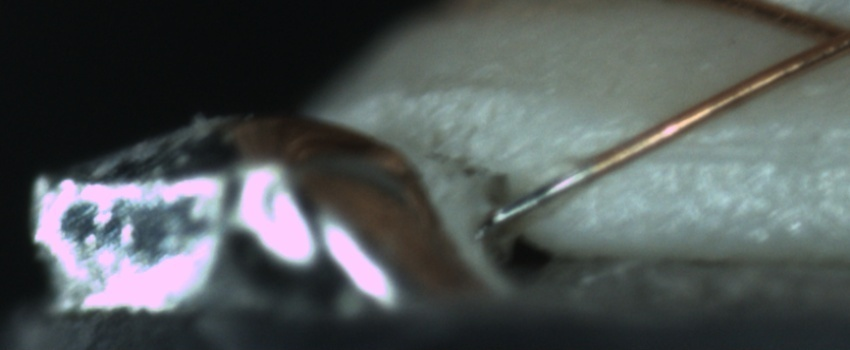CL: (791, 5, 849, 64)
DL: (622, 111, 842, 185)
TS: (483, 160, 591, 229)
